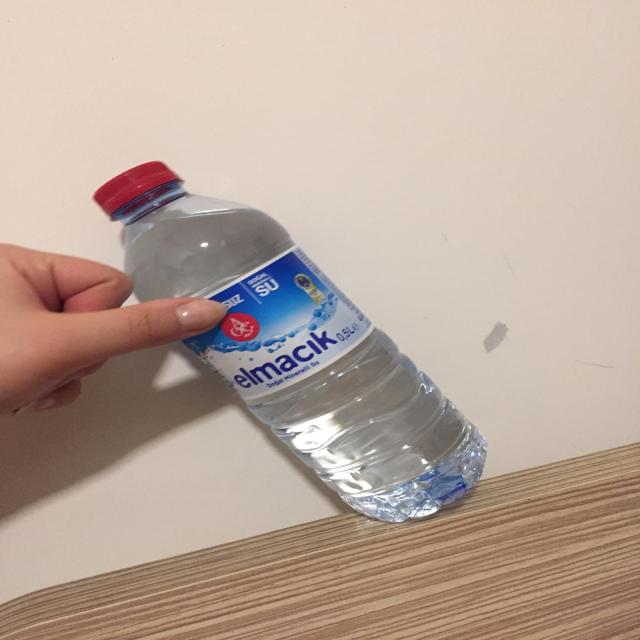anorganik: (91, 156, 526, 534)
